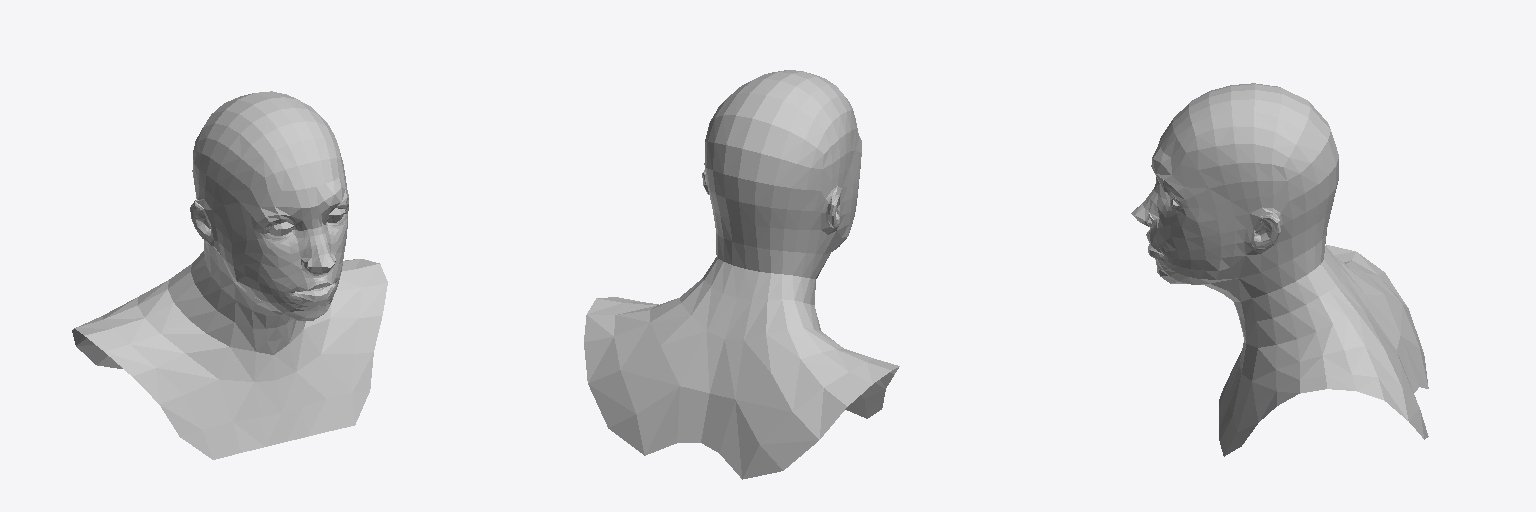
Rendered from LEyebrowUp.obj.
3 views of the same model, side by side, from view 1: azimuth 30°, elevation 25°; view 2: azimuth 150°, elevation 25°; view 3: azimuth 270°, elevation 25° (orthographic).
Parts seen in each view (by area): view 1: LeyebrowUp Blendshapes; view 2: LeyebrowUp Blendshapes; view 3: LeyebrowUp Blendshapes.
Part boxes in pixels (left/top/right/bottom): LeyebrowUp Blendshapes: left=72, top=91, right=387, bottom=459; LeyebrowUp Blendshapes: left=584, top=70, right=899, bottom=479; LeyebrowUp Blendshapes: left=1131, top=83, right=1428, bottom=456.
Size of the model in its own units: 449 by 482 by 391.